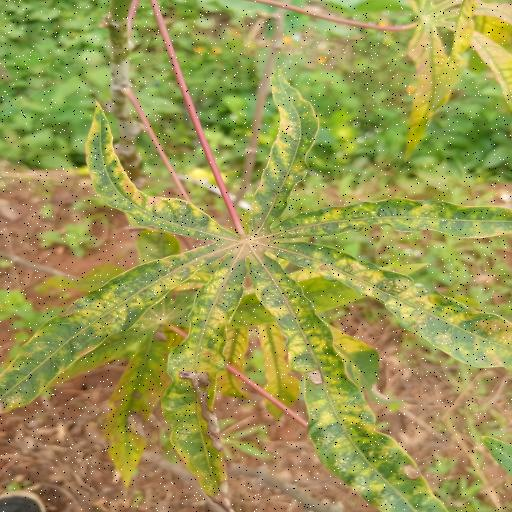Cassava_Mosaic: (2, 68, 512, 512)
